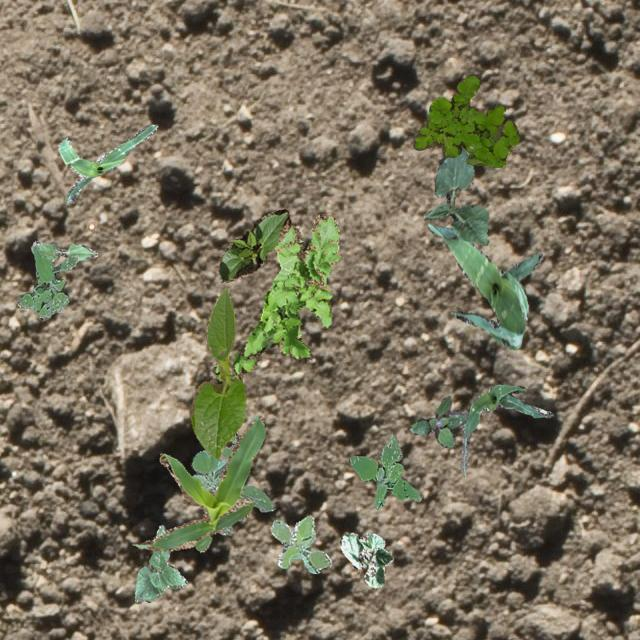crop: (134, 414, 264, 550), (428, 222, 542, 348), (188, 286, 244, 458), (460, 384, 552, 474), (56, 124, 156, 202), (423, 148, 488, 245), (217, 208, 290, 282), (134, 524, 186, 602), (338, 532, 392, 586), (30, 240, 96, 262)
weed: (212, 214, 340, 382), (412, 72, 518, 166), (190, 449, 274, 534), (348, 433, 420, 508), (15, 244, 76, 320), (270, 514, 330, 572), (409, 394, 466, 446), (220, 431, 238, 456)
